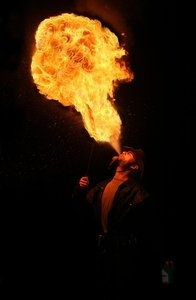fire: (29, 7, 130, 156)
